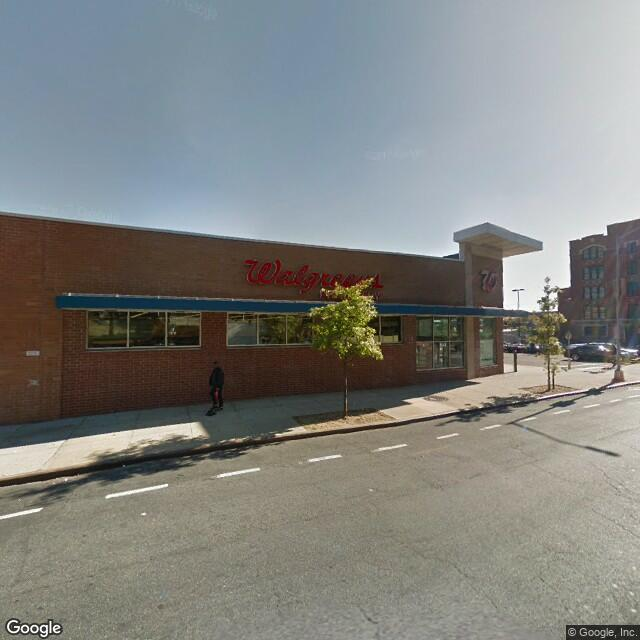litter: (365, 487, 376, 495), (140, 510, 149, 517), (64, 477, 71, 483)
